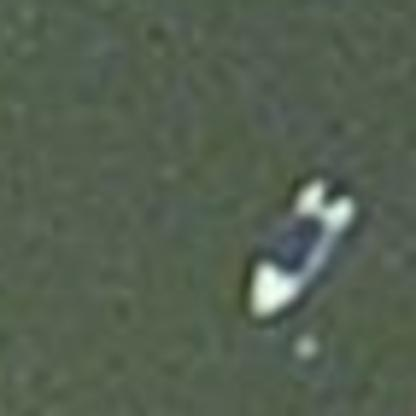ship: (228, 163, 368, 329)
